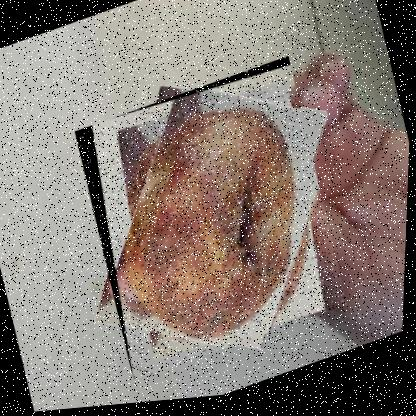guava_rotten: (67, 55, 357, 388)
